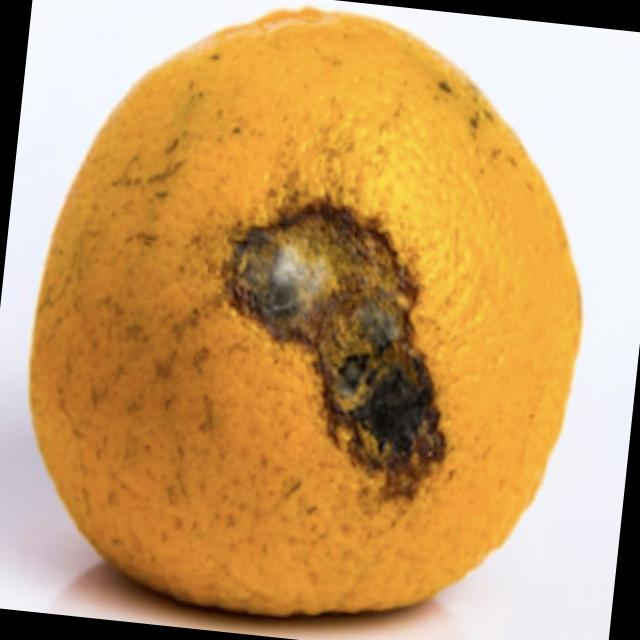rotten-orange: (6, 0, 611, 640)
